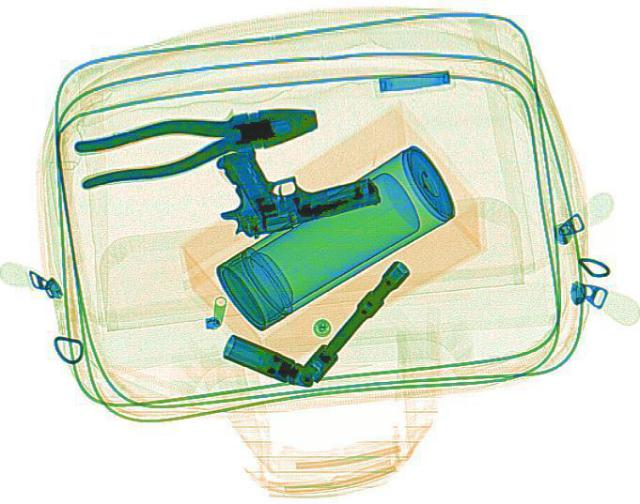Gun: (194, 116, 386, 243)
Pliers: (65, 91, 327, 190)
